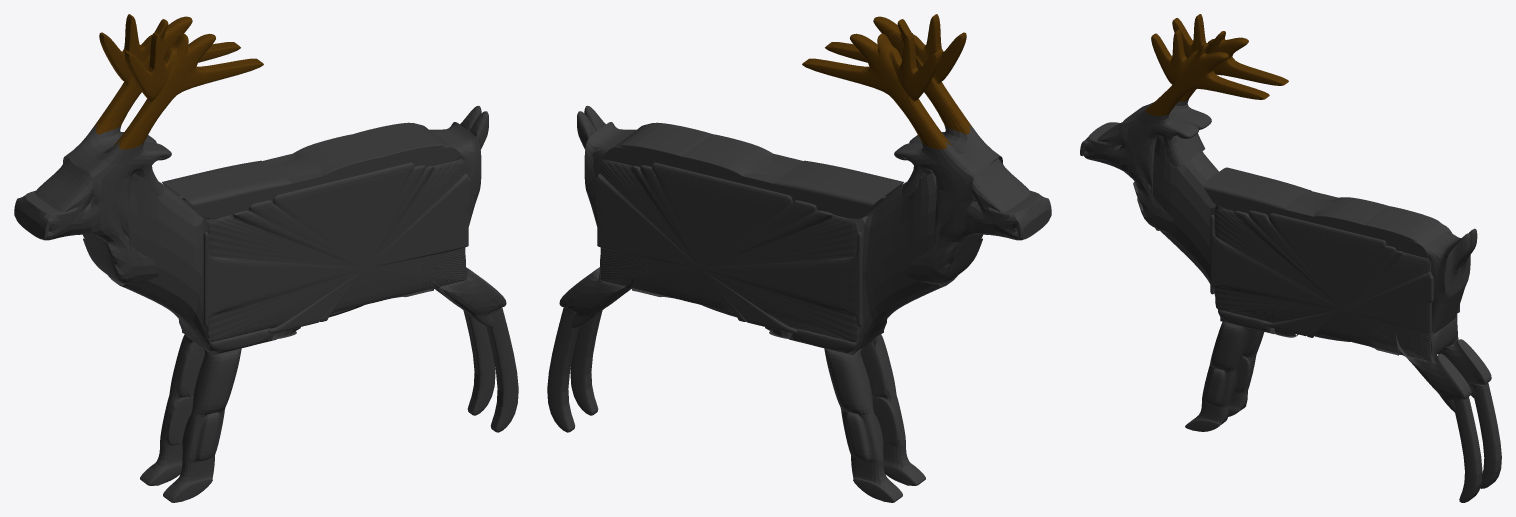
The model's file is reindeer4.fbx.
3 views of the same model, side by side, from view 1: azimuth 30°, elevation 25°; view 2: azimuth 150°, elevation 25°; view 3: azimuth 330°, elevation 25° (orthographic). The views are drawn at different scales.
Visible parts, largest first — view 1: Plane; view 2: Plane; view 3: Plane.
Part boxes in pixels (left/top/right/bottom): Plane: left=14, top=14, right=518, bottom=502; Plane: left=547, top=14, right=1051, bottom=502; Plane: left=1080, top=14, right=1501, bottom=502.
Bounding box in the file's own units: 1679 × 1622 × 238.
